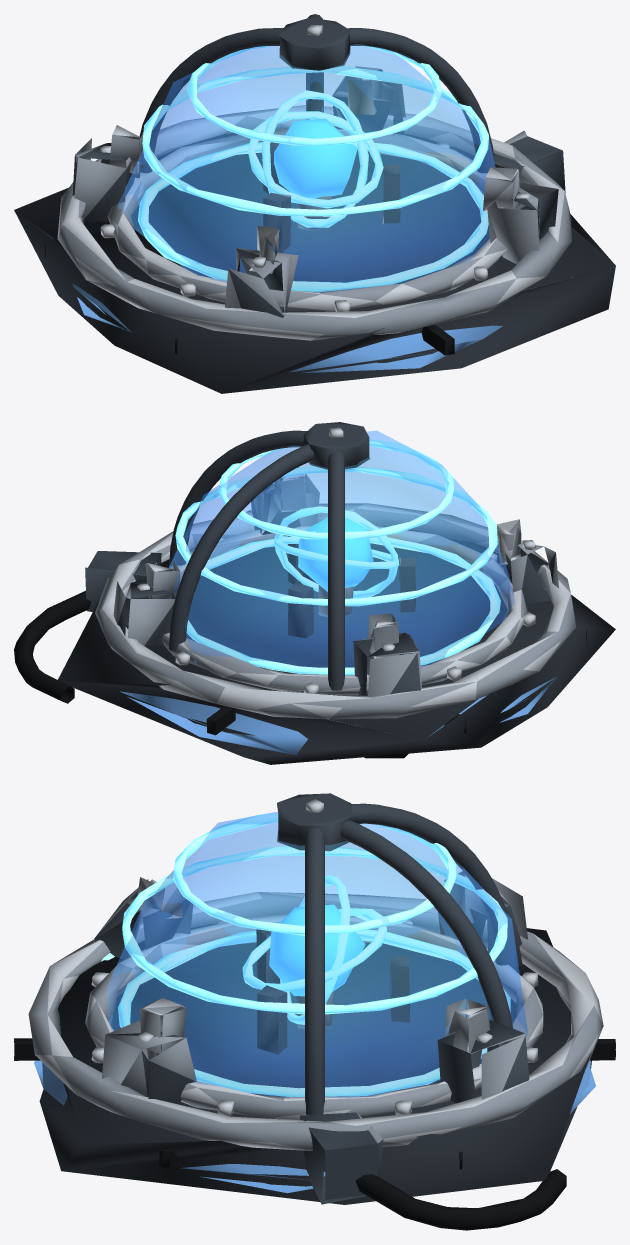
The model's file is dome.glb.
3 views of the same model, one above another, from view 1: azimuth 30°, elevation 25°; view 2: azimuth 150°, elevation 25°; view 3: azimuth 270°, elevation 25° (orthographic). The views are drawn at different scales.
Parts seen in each view (by area): view 1: cupula, base, aro_base, collar, banda_luz_1, aro_luz, nucleo, banda, abraza_4, abraza_3, abraza_2, banda_luz_2 (+15 smaller); view 2: cupula, base, aro_base, collar, banda_luz_1, banda, nervio_2, aro_luz, nervio_3, abraza_2, banda_luz_2, cable (+16 smaller); view 3: cupula, base, aro_base, collar, banda_luz_1, aro_luz, nervio_1, nervio_2, abraza_4, cable, conector, abraza_1 (+16 smaller).
Part boxes in pixels (x1,y1,x2,y2): cupula: (117, 44, 502, 291); base: (14, 133, 615, 393); aro_base: (57, 105, 571, 340); collar: (107, 126, 507, 311); banda_luz_1: (142, 66, 488, 216); aro_luz: (138, 142, 488, 292); nucleo: (274, 118, 357, 198); banda: (72, 279, 566, 373); abraza_4: (487, 182, 558, 286); abraza_3: (225, 248, 298, 317); abraza_2: (72, 138, 140, 222); banda_luz_2: (186, 46, 441, 145); cupula: (169, 430, 514, 668); base: (58, 510, 615, 764); aro_base: (95, 503, 576, 719); collar: (161, 526, 527, 695); banda_luz_1: (175, 466, 497, 606); banda: (120, 676, 557, 755); nervio_2: (168, 444, 314, 651); aro_luz: (186, 537, 500, 675); nervio_3: (328, 451, 344, 690); abraza_2: (353, 632, 422, 728); banda_luz_2: (218, 439, 454, 539); cable: (14, 590, 91, 703); cupula: (107, 811, 529, 1098); base: (39, 923, 591, 1204); aro_base: (28, 892, 603, 1150); collar: (85, 914, 543, 1120); banda_luz_1: (122, 846, 507, 1014); aro_luz: (118, 929, 510, 1097); nervio_1: (305, 828, 324, 1114); nervio_2: (340, 820, 512, 1028); abraza_4: (102, 1020, 196, 1104); cable: (355, 1169, 566, 1230); conector: (300, 1112, 383, 1204); abraza_1: (437, 1019, 529, 1102).
Bounding box in the file's own units: 0.6939 × 0.3433 × 0.6484.
